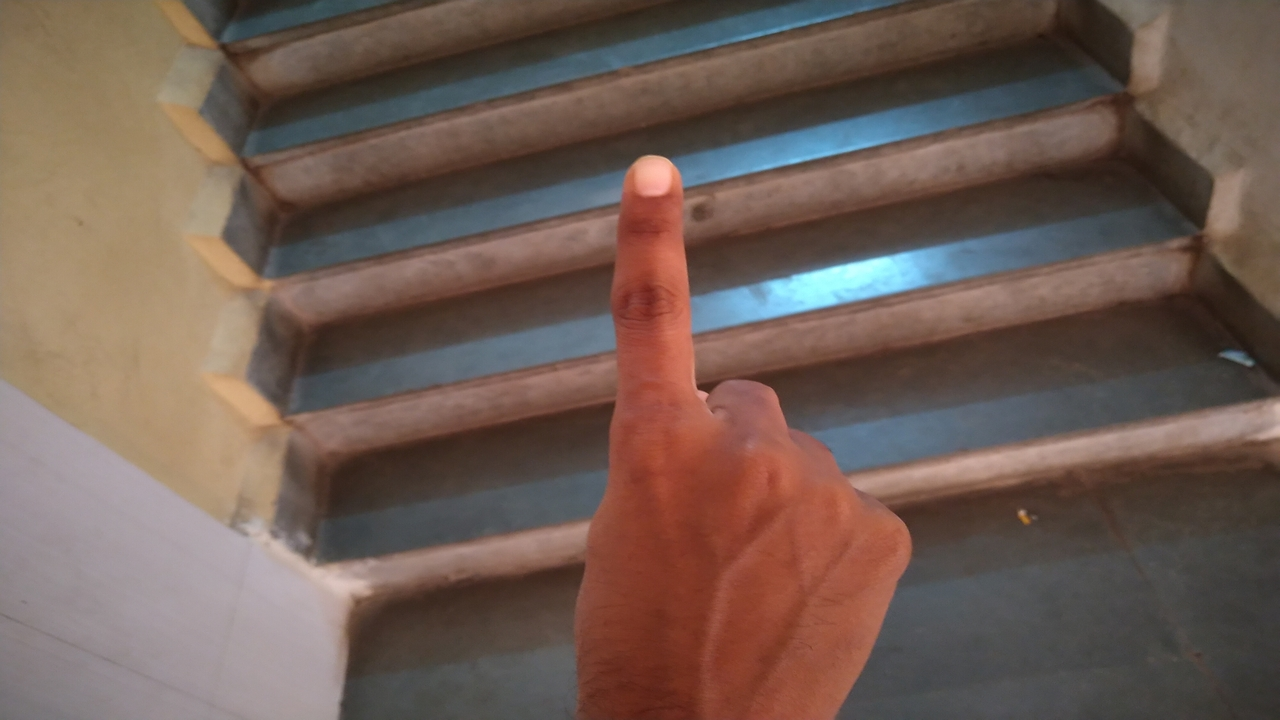fingertip: (618, 148, 682, 216)
